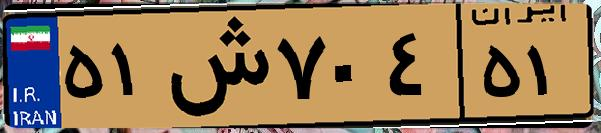0: (330, 28, 385, 110)
1: (525, 38, 570, 115), (110, 28, 158, 98)
4: (385, 28, 445, 110)
5: (57, 26, 110, 100), (475, 38, 525, 113)
7: (270, 28, 330, 110)
ش: (158, 12, 270, 120)
